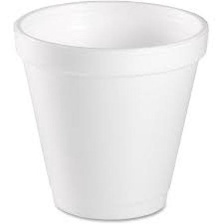paper_cup: (8, 0, 213, 224)
